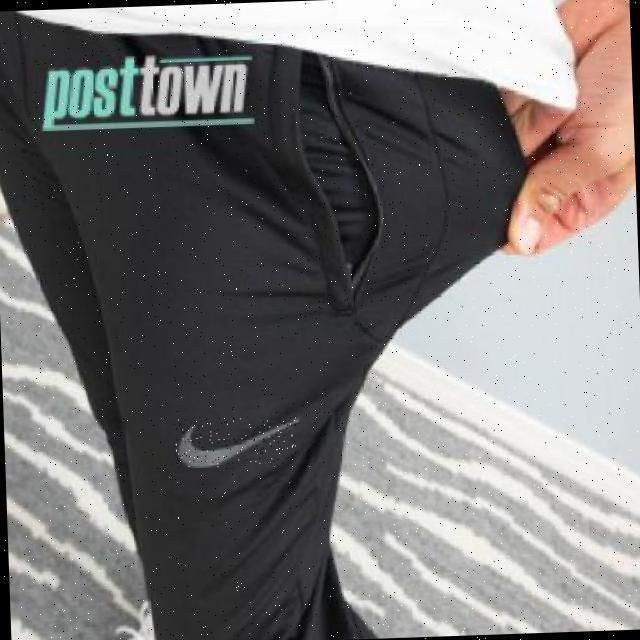Nike: (173, 415, 297, 468)
